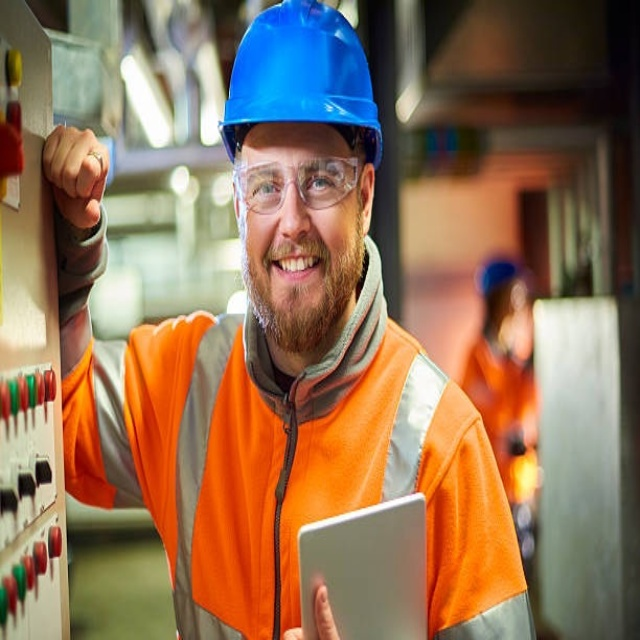Gafas: (233, 149, 364, 207)
Sin_guantes: (42, 123, 110, 233), (279, 575, 346, 640)
Sin_mascara: (260, 240, 330, 320)
